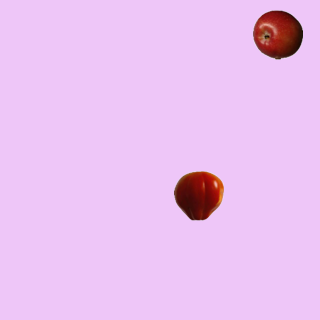Apple Braeburn: (252, 9, 302, 59)
Tomato 1: (173, 170, 223, 220)
